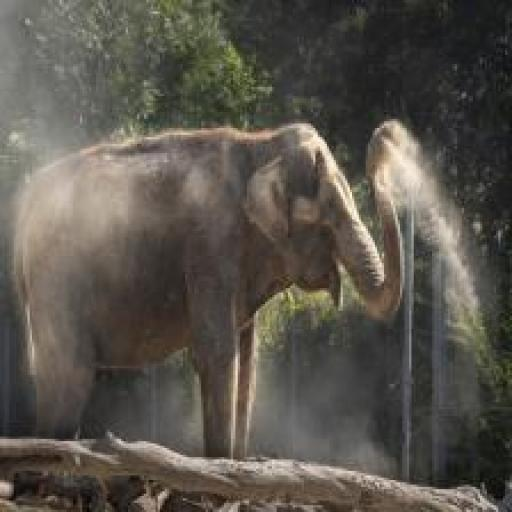Elephant: (9, 114, 421, 458)
